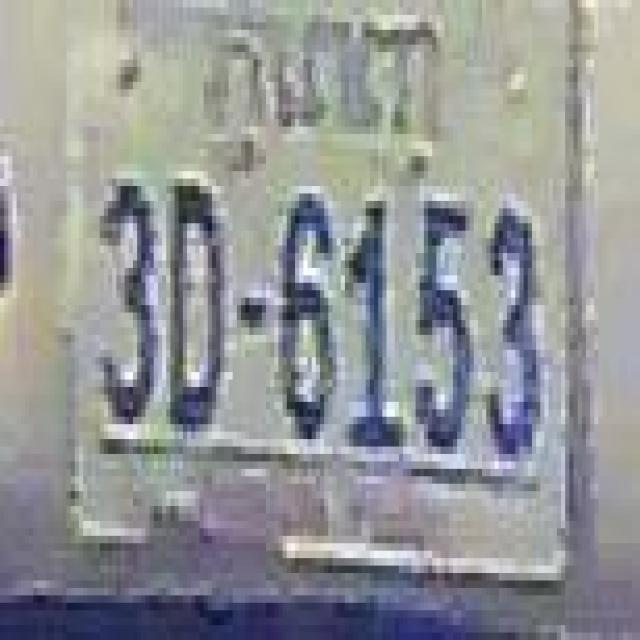Phnom_Penh: (208, 15, 444, 174)
